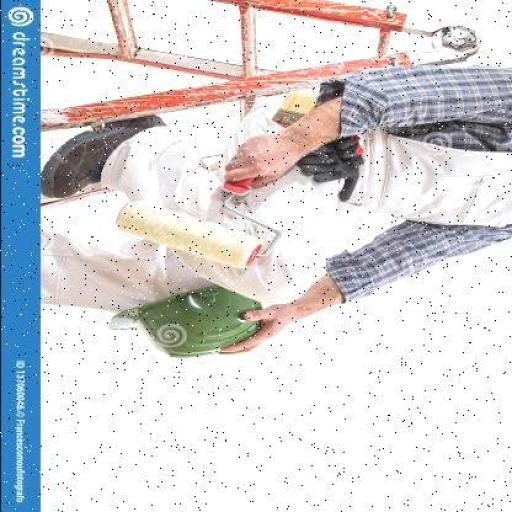safety_shoe: (38, 115, 166, 201)
